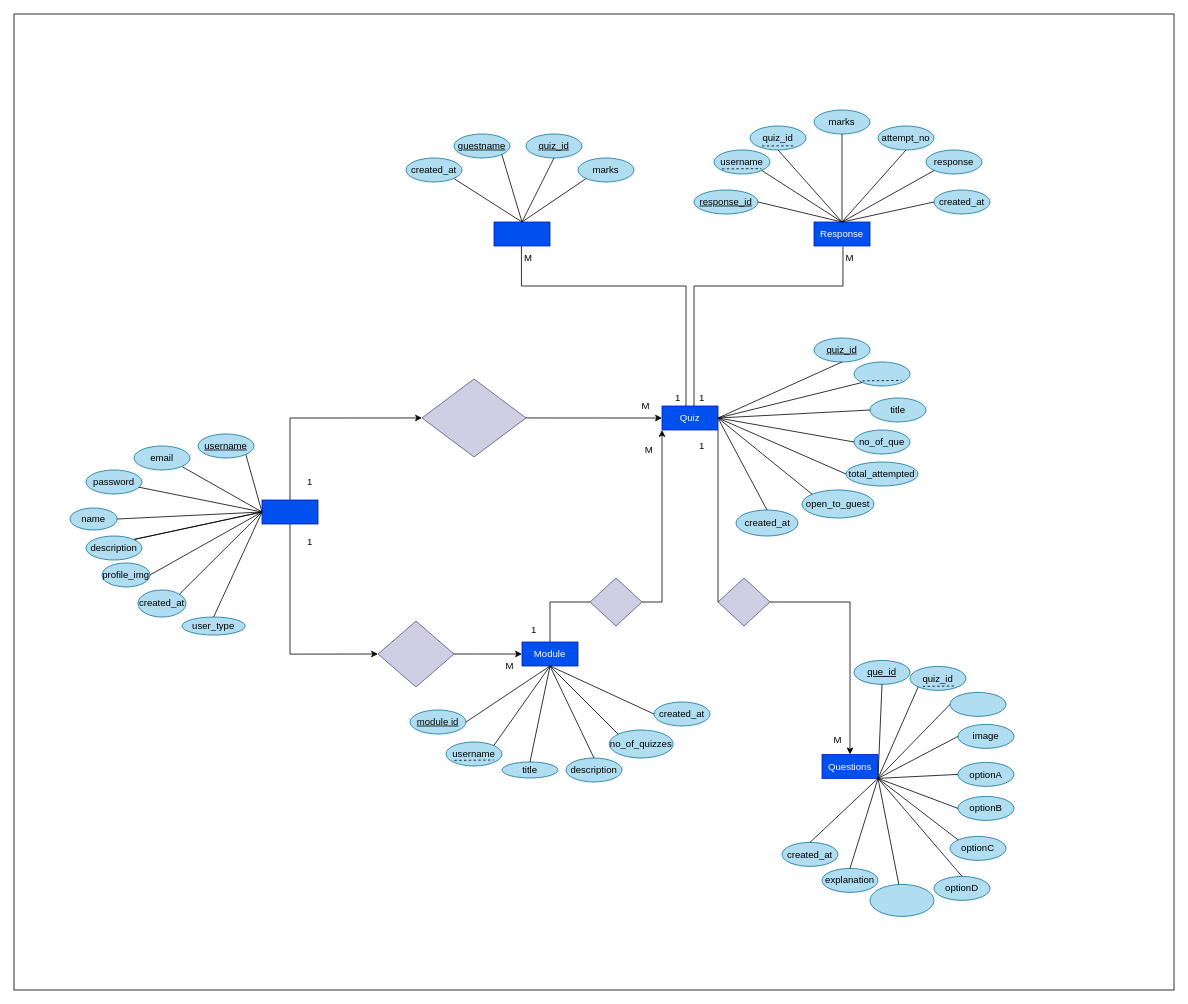
Some shapes in this 1188 by 1004 pixel diagram are drawn without their labels. The shapes that lost their labels are listed below. From the top down, each one's centre as x and y in pixels, then its label:
At point 521,233: "Guest Response".
At point 881,373: "module_id".
At point 473,417: "Can Manage and attempt".
At point 289,511: "User".
At point 615,601: "contains".
At point 743,601: "has".
At point 415,653: "Can Create".
At point 977,704: "question".
At point 901,900: "correct_option".
